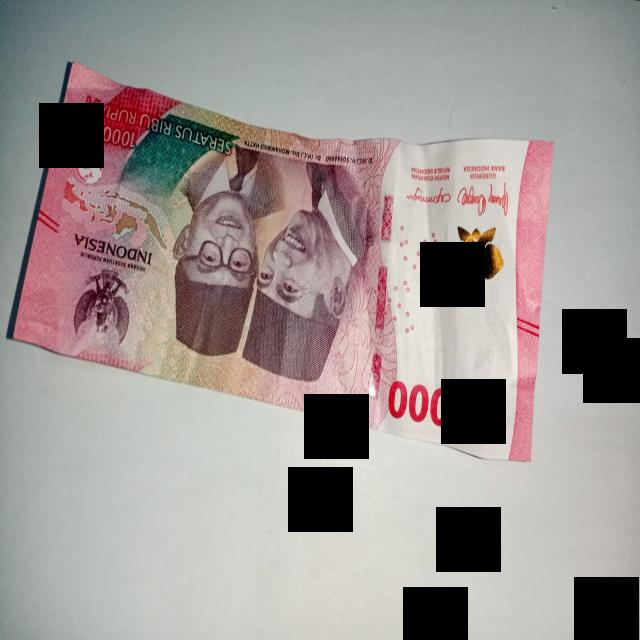seratusribu rupiah: (8, 63, 552, 459)
